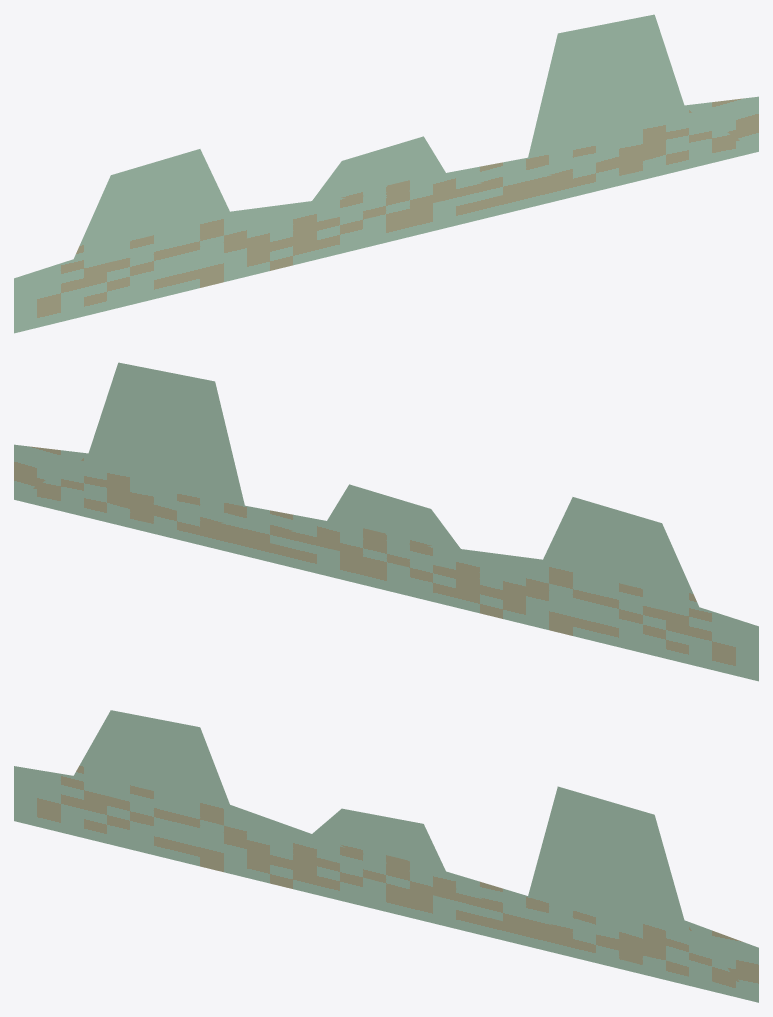
The model's file is land.skyline__mesas.glb.
The picture shows the model from 3 angles, top to bottom: view 1: azimuth 30°, elevation 25°; view 2: azimuth 150°, elevation 25°; view 3: azimuth 330°, elevation 25°; orthographic projection.
Visible parts, largest first — view 1: kit_shell_skyline; view 2: kit_shell_skyline; view 3: kit_shell_skyline.
Part boxes in pixels (box(x1,y1,x2,y2)): kit_shell_skyline: box(14, 14, 758, 333); kit_shell_skyline: box(14, 362, 758, 681); kit_shell_skyline: box(14, 710, 758, 1002).
Bounding box in the file's own units: 60 × 12.88 × 0.
1 material, 1 textured.
